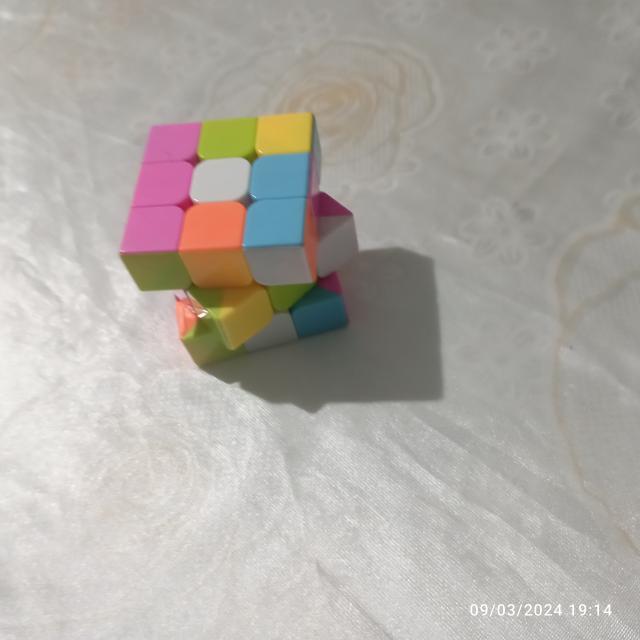Rub: (115, 108, 361, 376)
